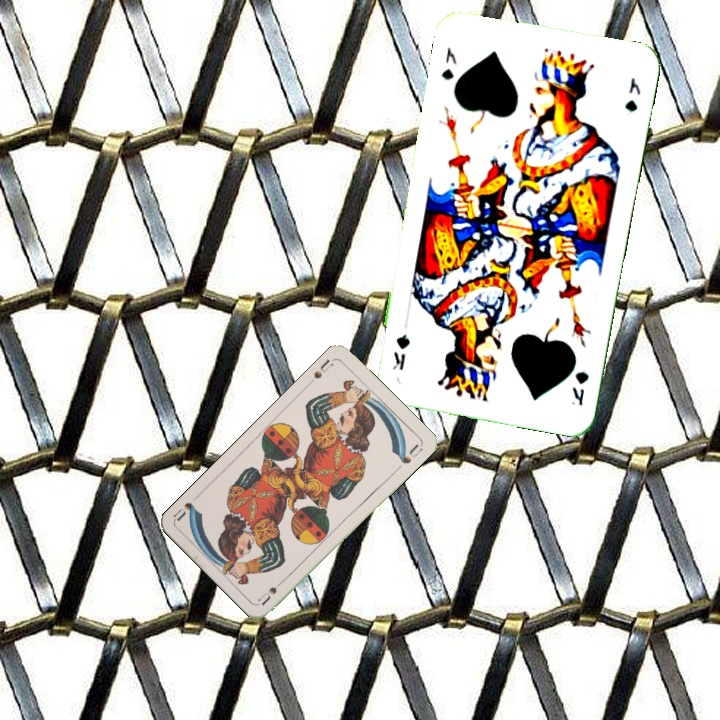GK: (567, 367, 591, 409), (437, 43, 460, 83)
SU: (254, 574, 289, 608), (310, 355, 336, 382)
